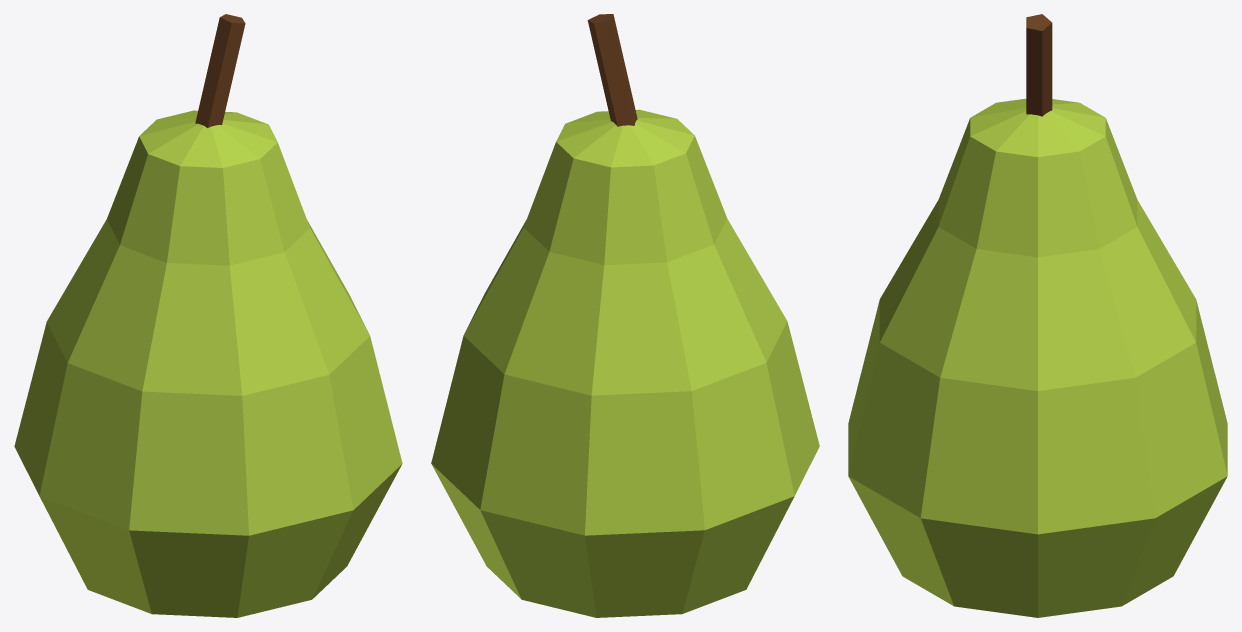
File: pear.glb
3 views of the same model, side by side, from view 1: azimuth 30°, elevation 25°; view 2: azimuth 150°, elevation 25°; view 3: azimuth 270°, elevation 25° (orthographic). The views are drawn at different scales.
Visible parts, largest first — view 1: pear; view 2: pear; view 3: pear.
Part boxes in pixels (left/top/right/bottom): pear: left=14, top=14, right=402, bottom=617; pear: left=431, top=14, right=819, bottom=617; pear: left=848, top=14, right=1227, bottom=617.
Bounding box in the file's own units: 0.084 × 0.1328 × 0.0799.
